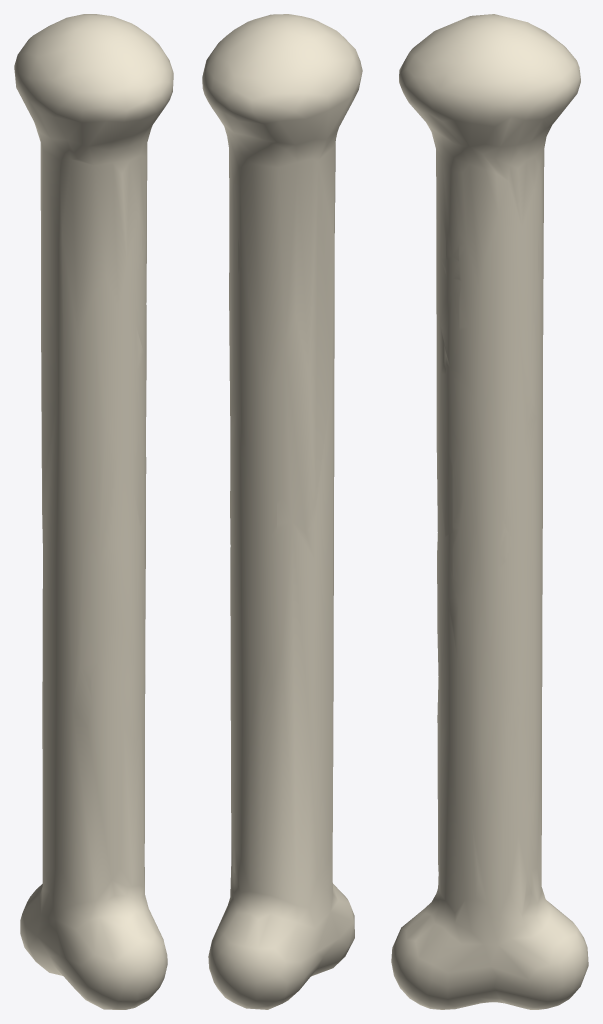
File: metacarpal_l.glb
3 renders of one model, left to right at view 1: azimuth 30°, elevation 25°; view 2: azimuth 150°, elevation 25°; view 3: azimuth 270°, elevation 25°, orthographic.
Parts seen in each view (by area): view 1: geometry_0; view 2: geometry_0; view 3: geometry_0.
Boxes of the visible parts, <box> form: geometry_0: <box>14,14,173,1009</box>; geometry_0: <box>202,14,362,1009</box>; geometry_0: <box>391,14,588,1009</box>.
Size of the model in its own units: 0.0956 by 0.6597 by 0.1201.
